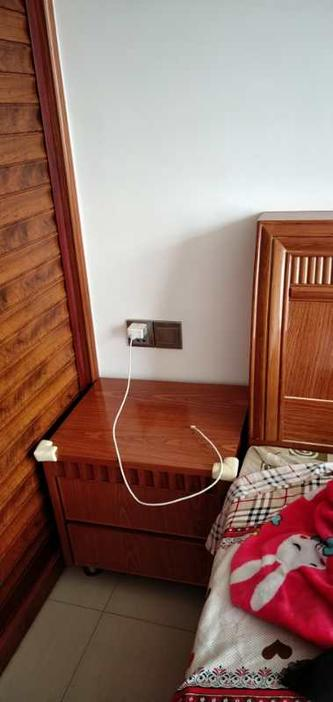switch: (158, 329, 185, 345)
